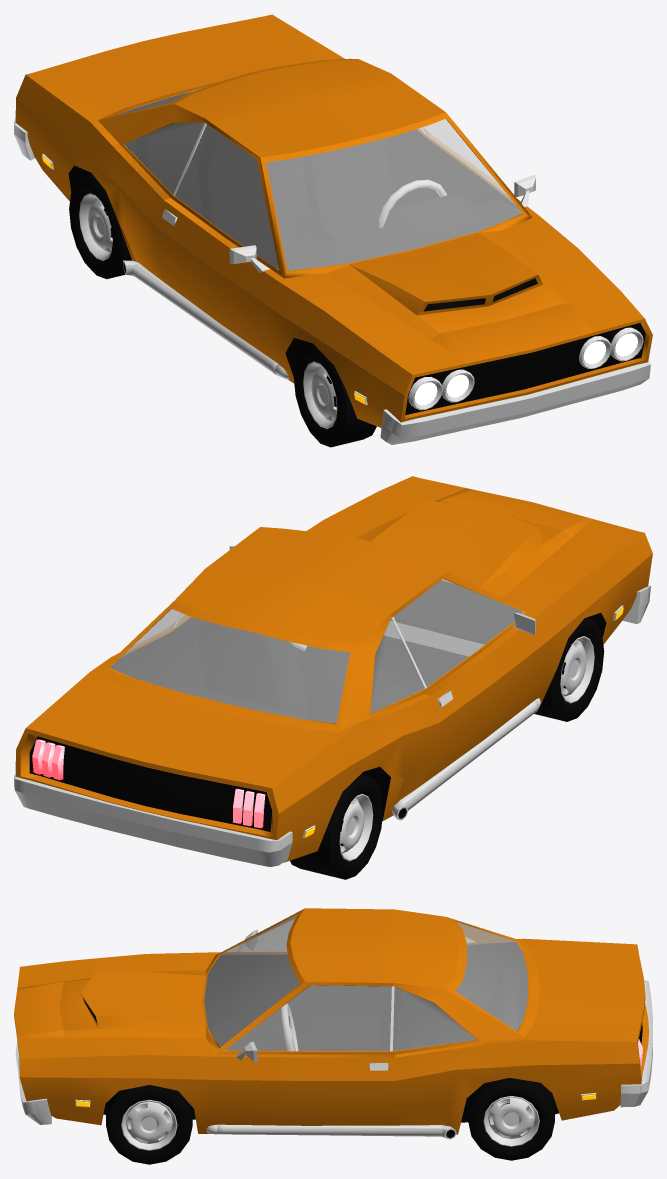
File: classic-muscle-car-641efc.glb
3 views of the same model, one above another, from view 1: azimuth 30°, elevation 25°; view 2: azimuth 150°, elevation 25°; view 3: azimuth 270°, elevation 25° (orthographic). The views are drawn at different scales.
Parts seen in each view (by area): view 1: body, wheel-front-right, wheel-back-right; view 2: body, wheel-back-right, wheel-front-right; view 3: body, wheel-front-left, wheel-back-left.
Part boxes in pixels (x1,y1,x2,y2): body: (14, 14, 652, 444); wheel-front-right: (293, 343, 376, 447); wheel-back-right: (69, 173, 132, 279); body: (14, 476, 652, 866); wheel-back-right: (290, 774, 383, 879); wheel-front-right: (534, 617, 604, 721); body: (14, 908, 652, 1160); wheel-front-left: (106, 1085, 192, 1164); wheel-back-left: (468, 1078, 554, 1146).
Size of the model in its own units: 2.02 by 1.33 by 4.5.
